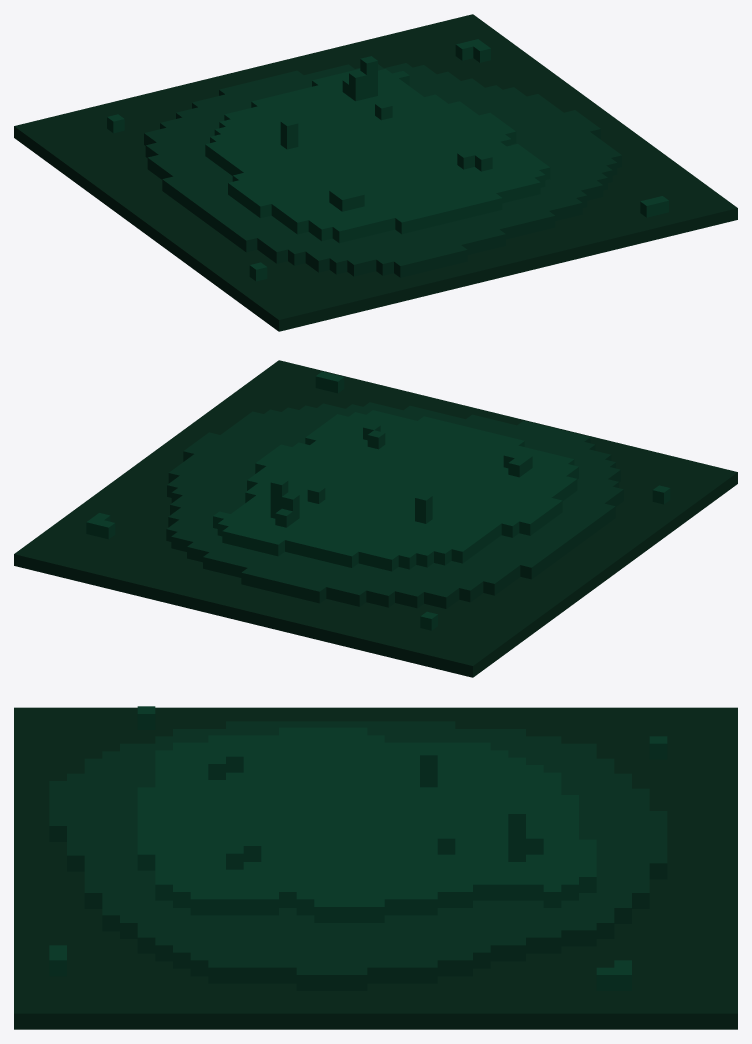
The model's file is TestGround.obj.
The picture shows the model from 3 angles, top to bottom: view 1: azimuth 30°, elevation 25°; view 2: azimuth 150°, elevation 25°; view 3: azimuth 270°, elevation 25°; orthographic projection. The views are drawn at different scales.
Bounding box in the file's own units: 41 × 6 × 41.
1 material, 1 textured.
